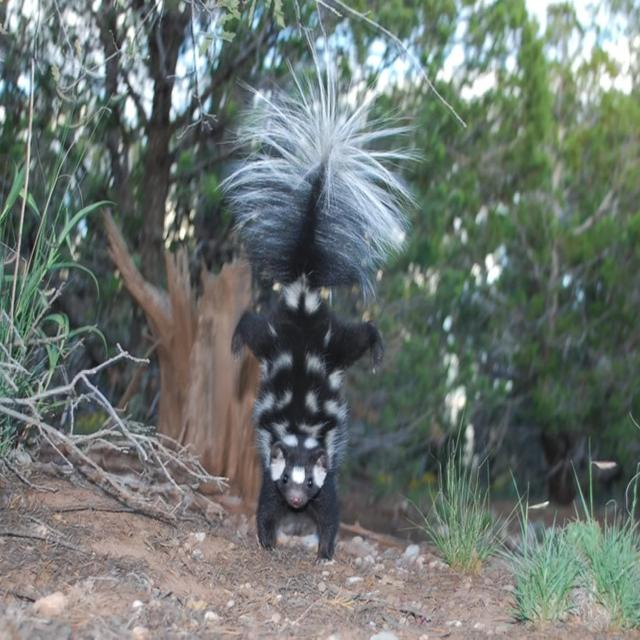Skunk: (233, 27, 406, 578)
